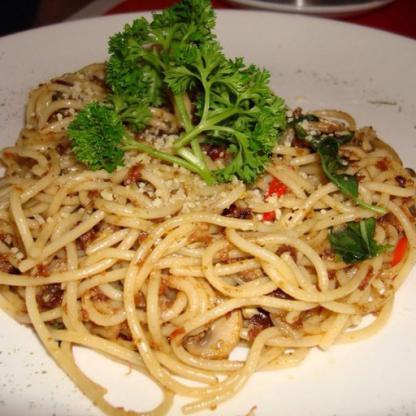pasta: (1, 63, 413, 383)
